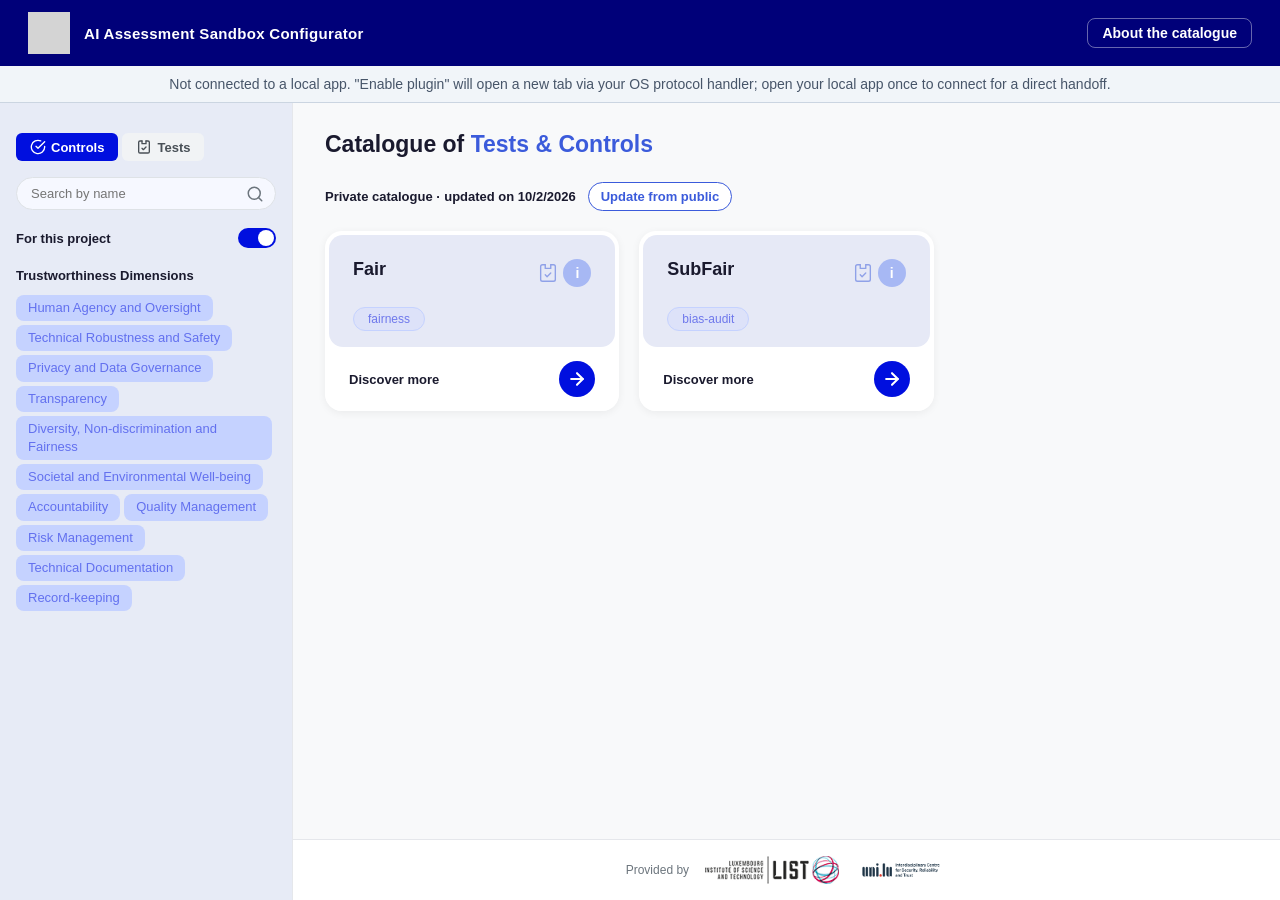
Test: Catalogue page of a project › shows the answer's detail when the update fails
Click the button "Update from public": (660, 196) [588,182,732,211]
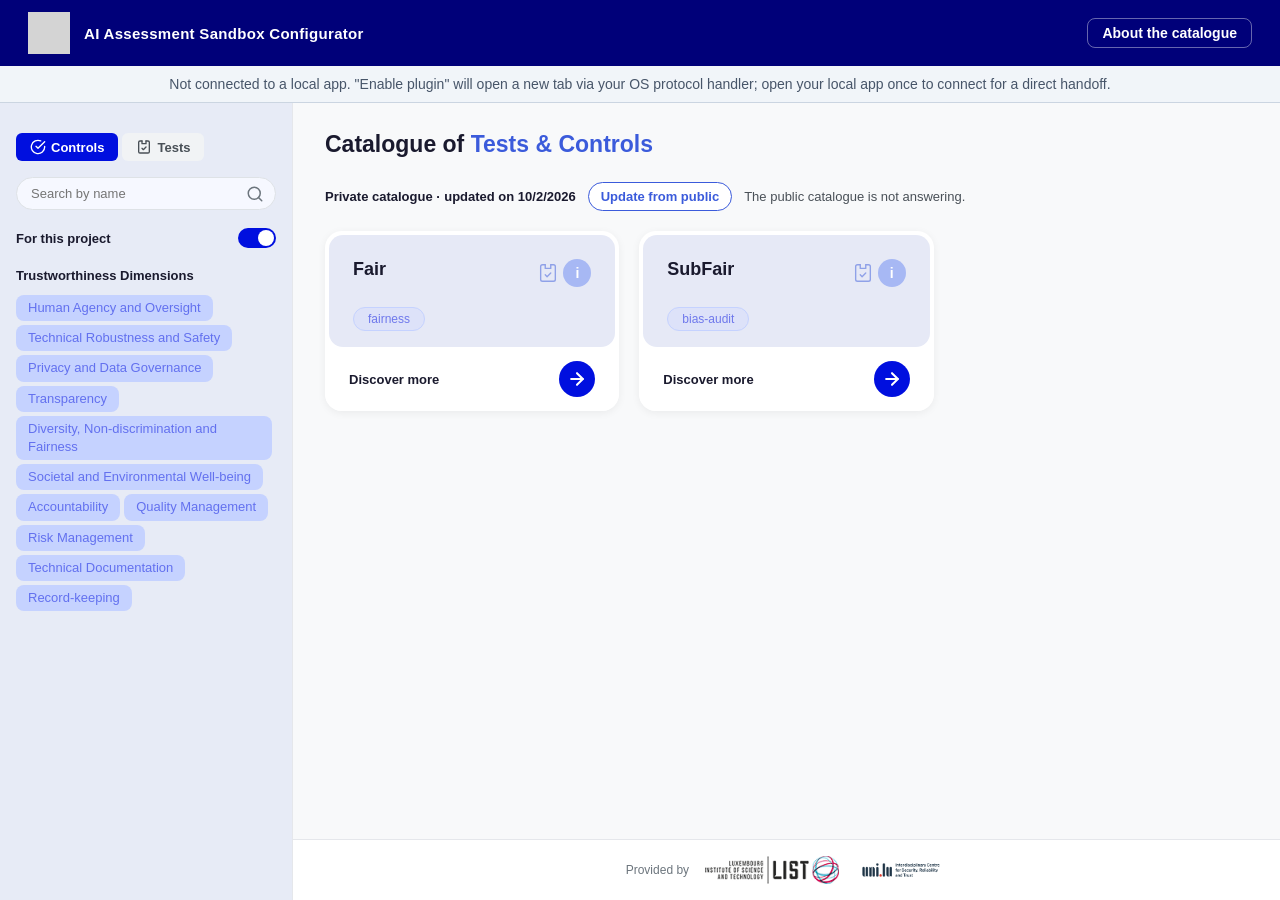
Expected: the text "The public catalogue is not answering." is shown, [744,189,965,204]
